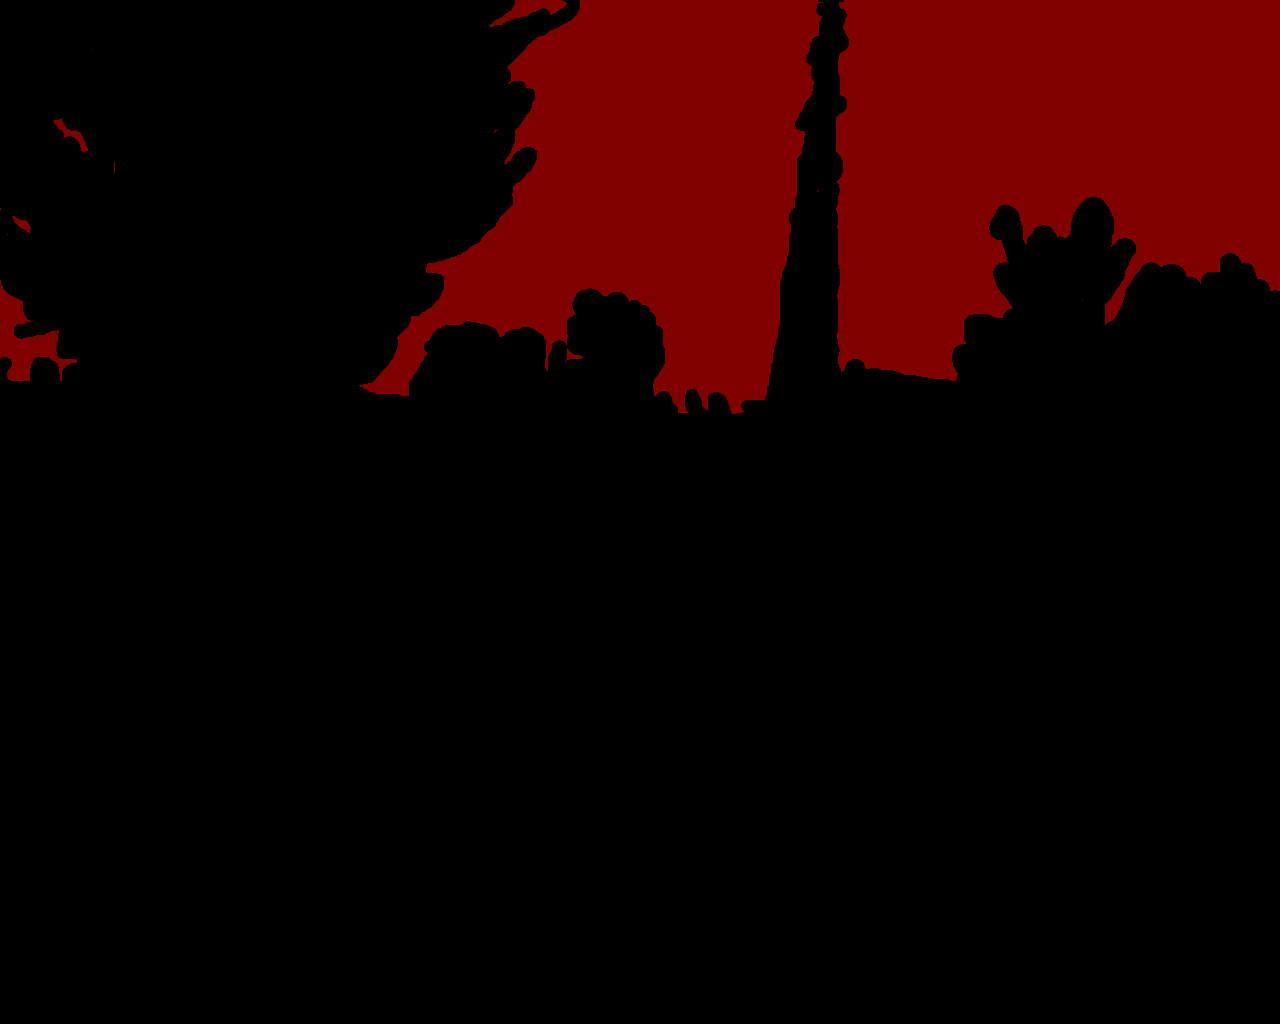Sky: (1, 1, 1279, 414)
